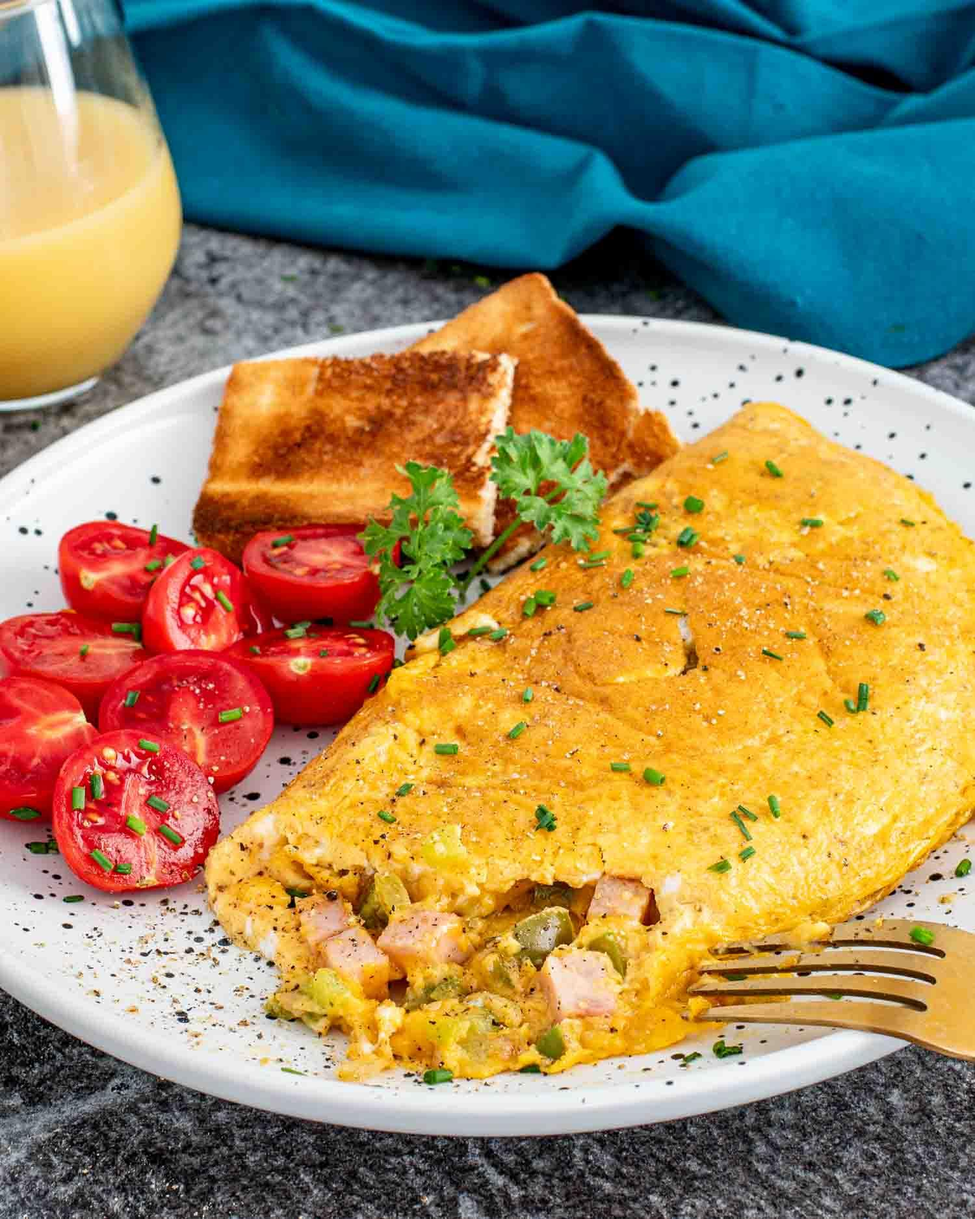omelette: (325, 582, 975, 1019)
salad: (14, 495, 362, 889)
